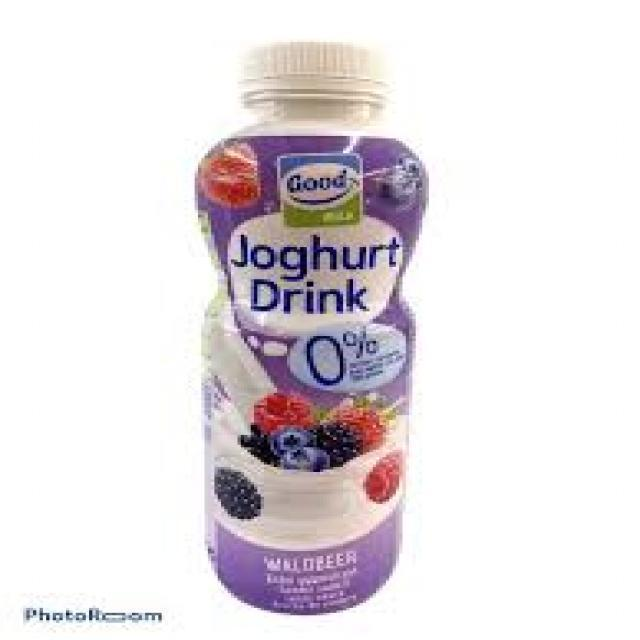Plastic: (177, 40, 423, 613)
